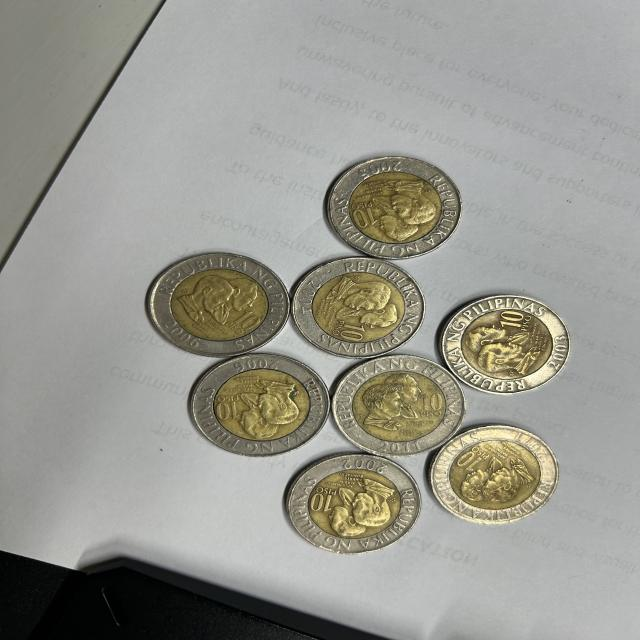10_Old_Front: (499, 308, 532, 332), (335, 320, 367, 341), (418, 391, 448, 411), (235, 310, 262, 332), (214, 401, 242, 421), (311, 491, 336, 512), (353, 206, 376, 228), (459, 451, 483, 470)
